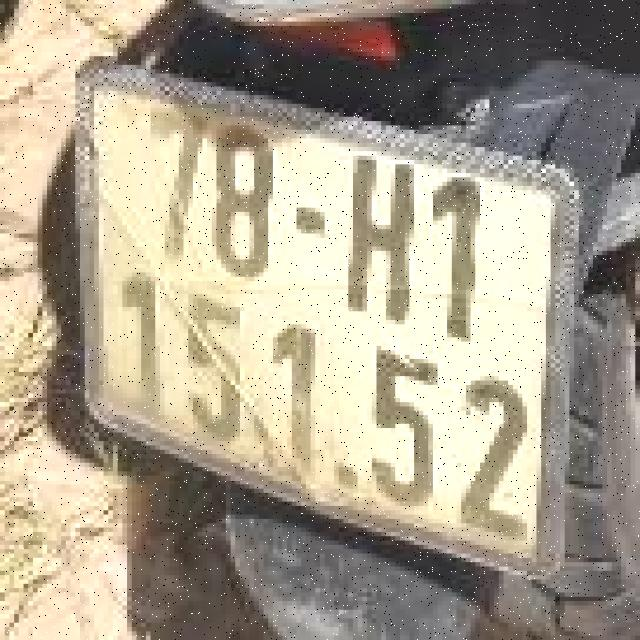1: (424, 166, 489, 351), (108, 270, 175, 427), (269, 314, 322, 492)
2: (453, 368, 545, 555)
5: (363, 333, 449, 515), (183, 283, 261, 450)
7: (136, 95, 218, 270)
8: (202, 117, 285, 290)
H: (342, 150, 430, 330)
